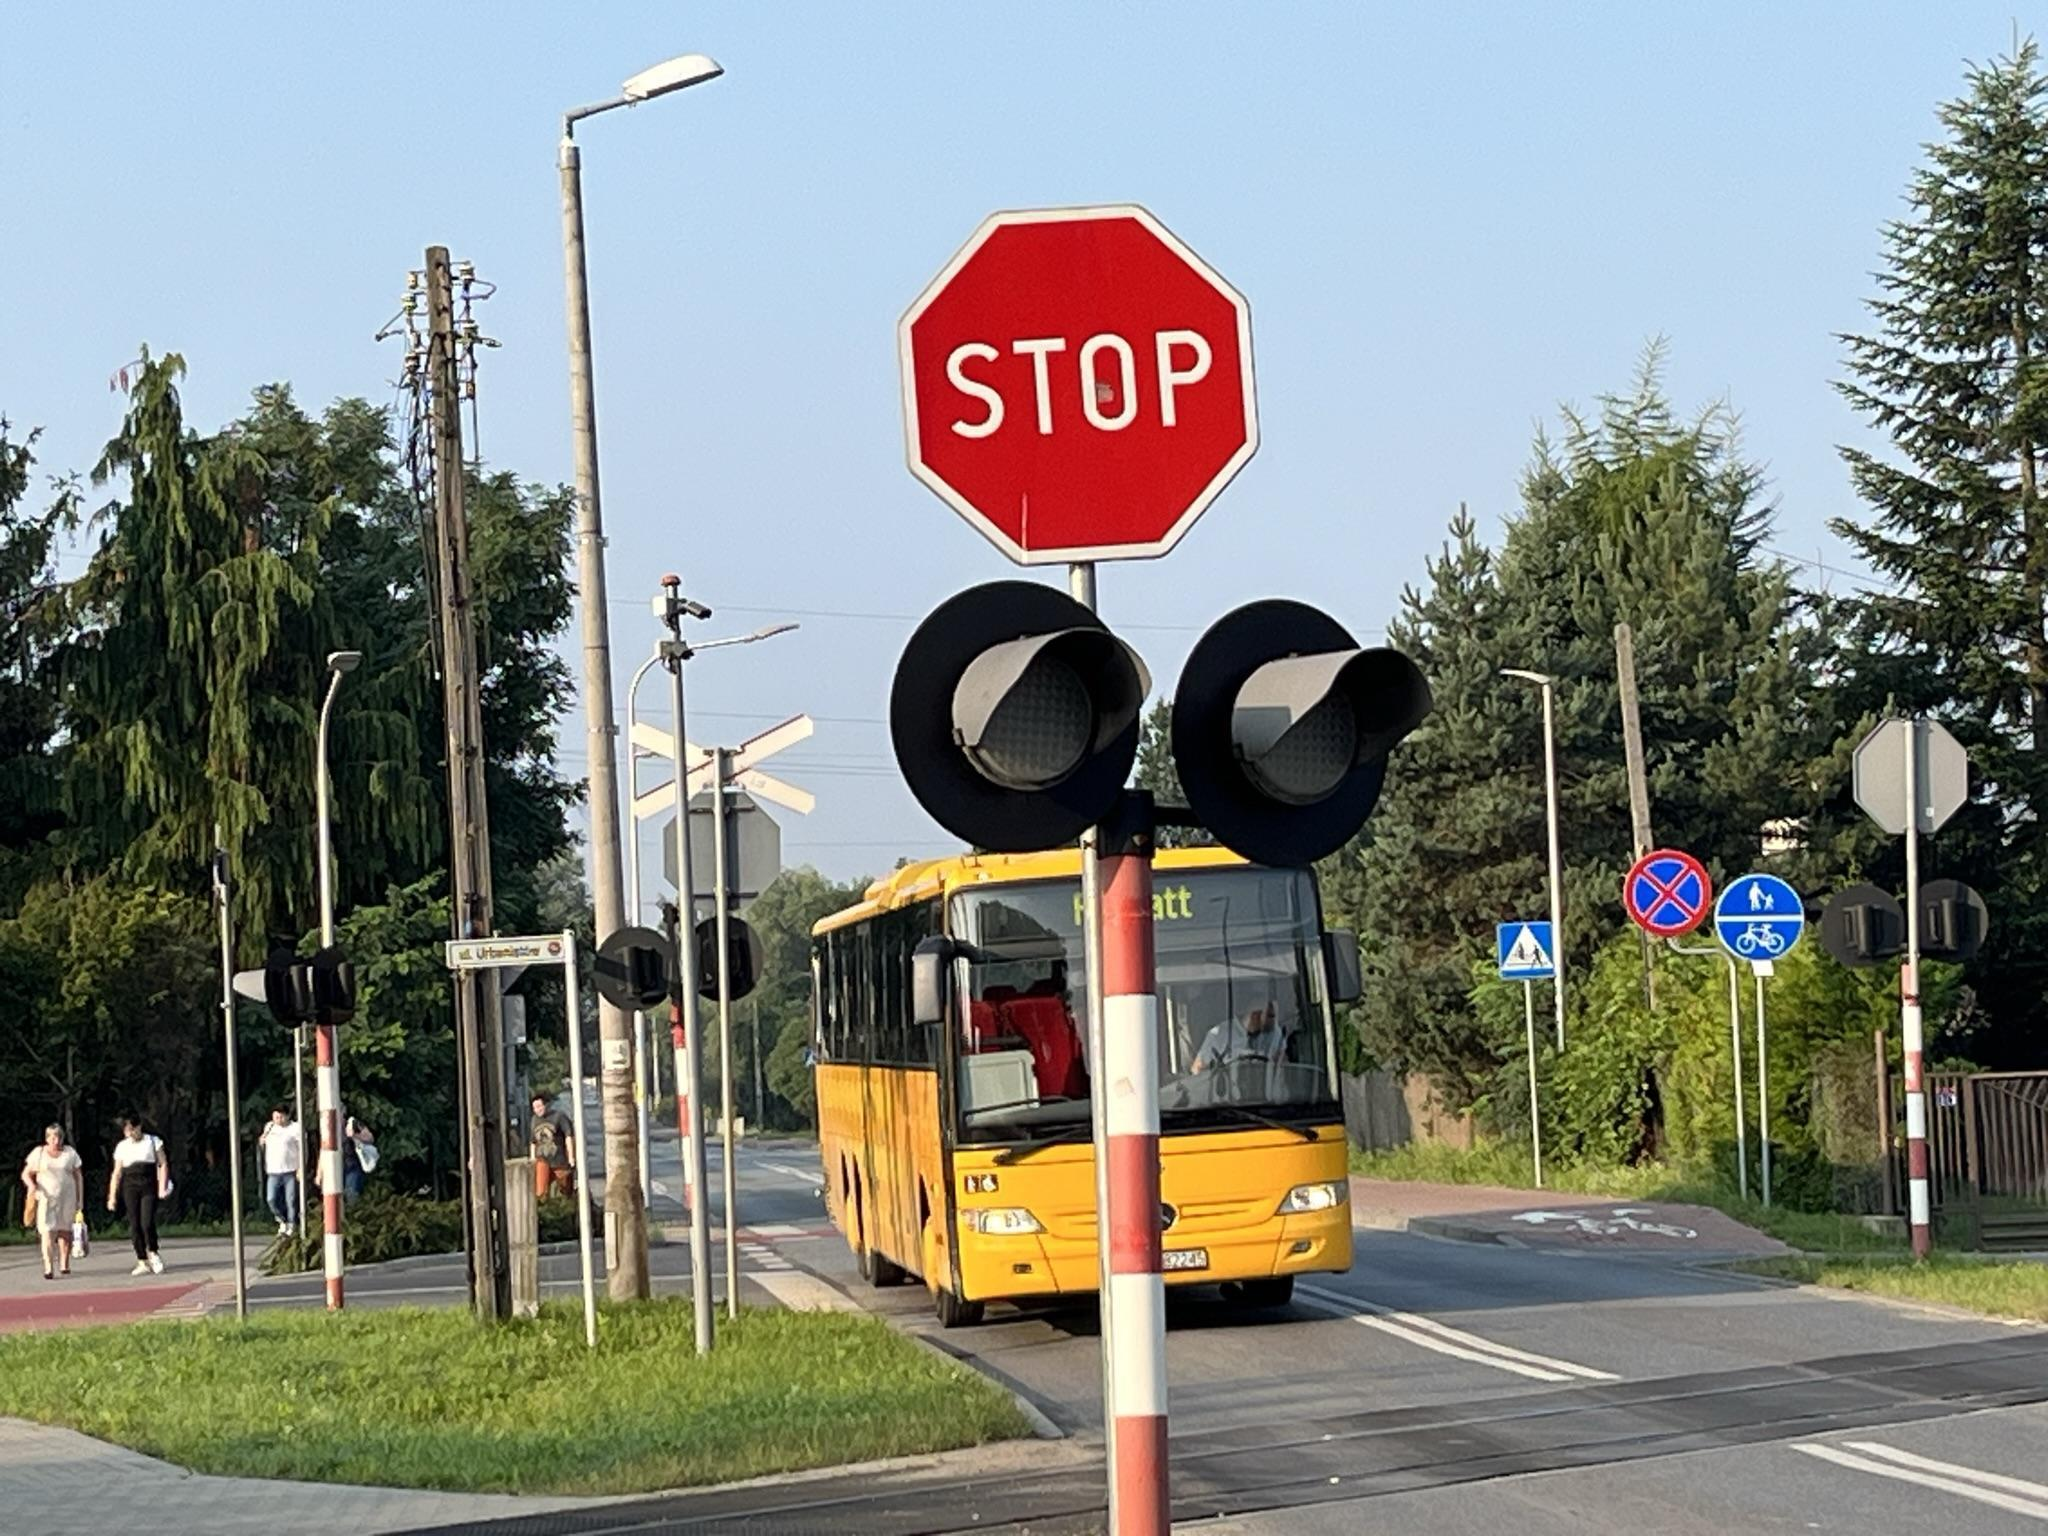information: (1498, 921, 1555, 976)
mandatory: (1716, 871, 1808, 962)
prohibitory: (897, 202, 1263, 565), (1622, 849, 1713, 937)
